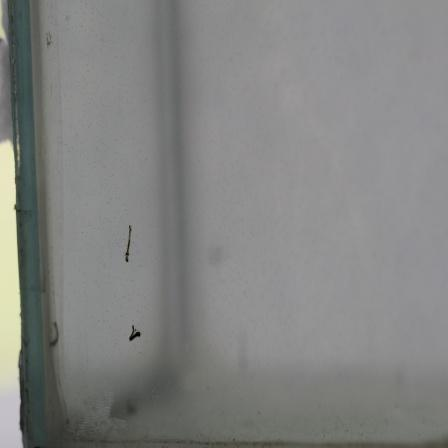Jentik-Nyamuk: (119, 221, 138, 266), (45, 316, 61, 351), (127, 322, 145, 347)
